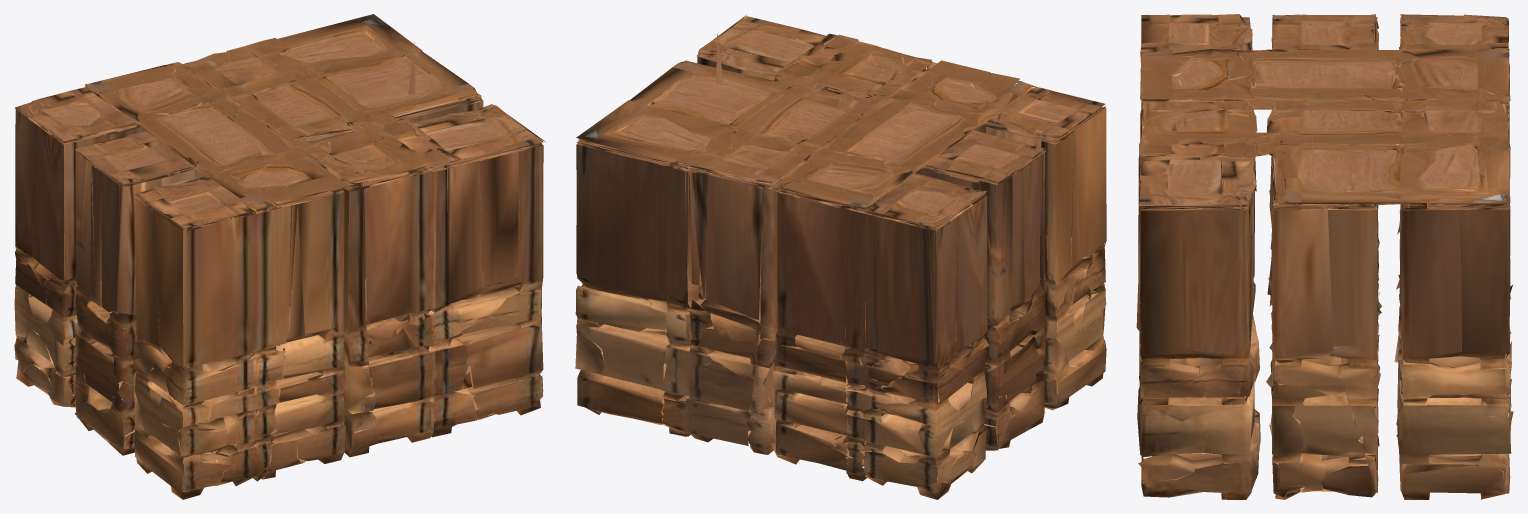
File: crate-stack.glb
3 views of the same model, side by side, from view 1: azimuth 30°, elevation 25°; view 2: azimuth 150°, elevation 25°; view 3: azimuth 270°, elevation 25° (orthographic). The views are drawn at different scales.
Visible parts, largest first — view 1: crate-stack; view 2: crate-stack; view 3: crate-stack.
Boxes of the visible parts, x1,y1,x2,y2 form: crate-stack: (14, 14, 545, 499); crate-stack: (575, 14, 1106, 499); crate-stack: (1136, 14, 1513, 499).
Size of the model in its own units: 2.2 by 1.9 by 1.81.
1 material, 1 textured.
